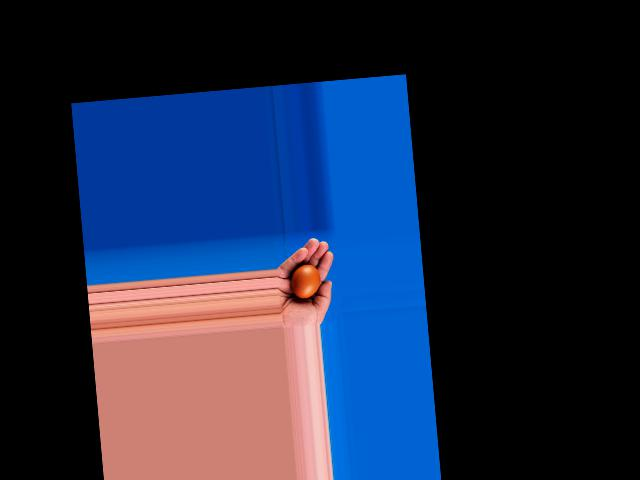egg: (290, 262, 321, 299)
